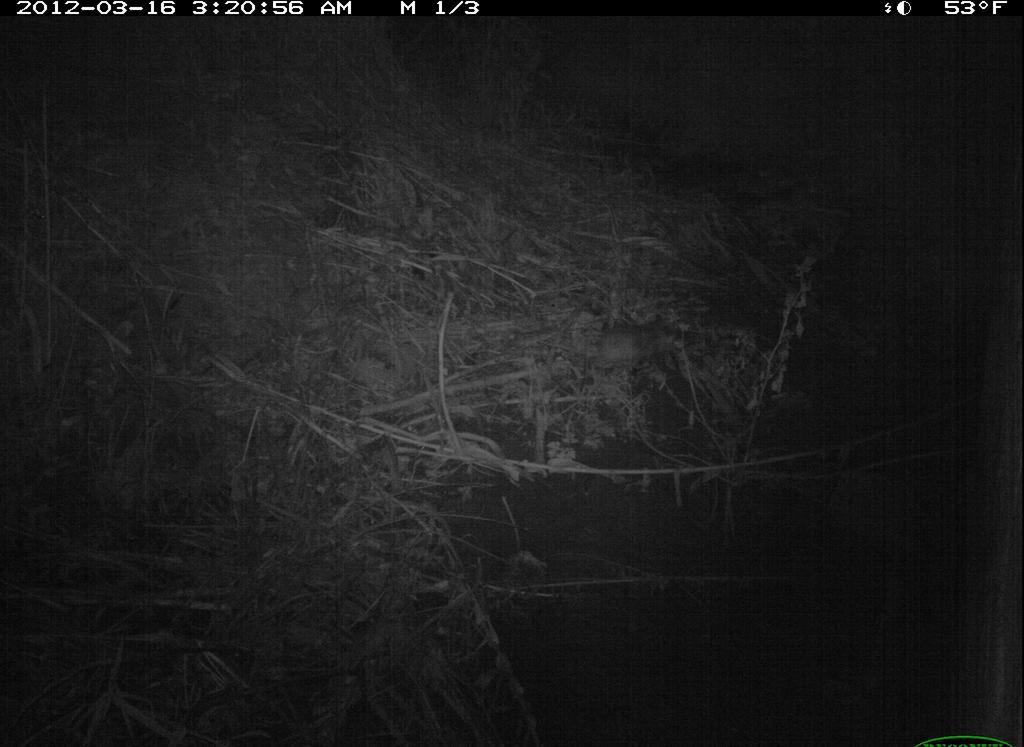opossum: (583, 314, 705, 377)
